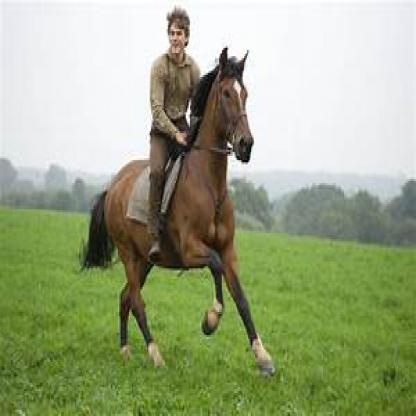horse: (88, 46, 274, 372)
